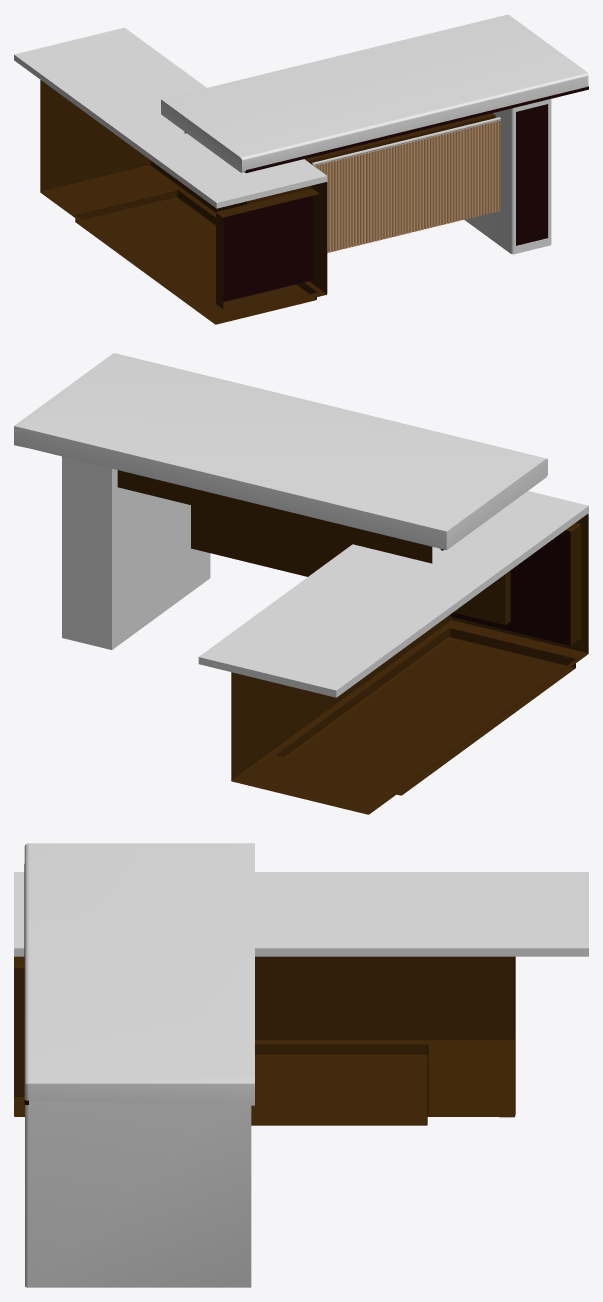
Rendered from adminDesk.glb.
3 views of the same model, one above another, from view 1: azimuth 30°, elevation 25°; view 2: azimuth 150°, elevation 25°; view 3: azimuth 270°, elevation 25° (orthographic). The views are drawn at different scales.
Visible parts, largest first — view 1: Cube.005, Cube.003, Cube.004, Plane.003, Cube.002, Cube.006, Cube.007; view 2: Cube.005, Cube.003, Cube.002, Cube.004; view 3: Cube.005, Cube.003, Cube.002, Cube.004.
Boxes of the visible parts, x1,y1,x2,y2 form: Cube.005: [161, 14, 588, 172]; Cube.003: [40, 80, 327, 324]; Cube.004: [14, 27, 327, 208]; Plane.003: [314, 121, 500, 253]; Cube.002: [184, 99, 551, 254]; Cube.006: [244, 86, 588, 173]; Cube.007: [312, 117, 500, 165]; Cube.005: [14, 353, 547, 550]; Cube.003: [231, 514, 588, 814]; Cube.002: [62, 456, 510, 649]; Cube.004: [198, 491, 588, 697]; Cube.005: [24, 843, 254, 1105]; Cube.003: [14, 956, 515, 1125]; Cube.002: [25, 1100, 251, 1287]; Cube.004: [14, 872, 588, 956].
Bounding box in the file's own units: 2.07 × 0.8534 × 1.93.
